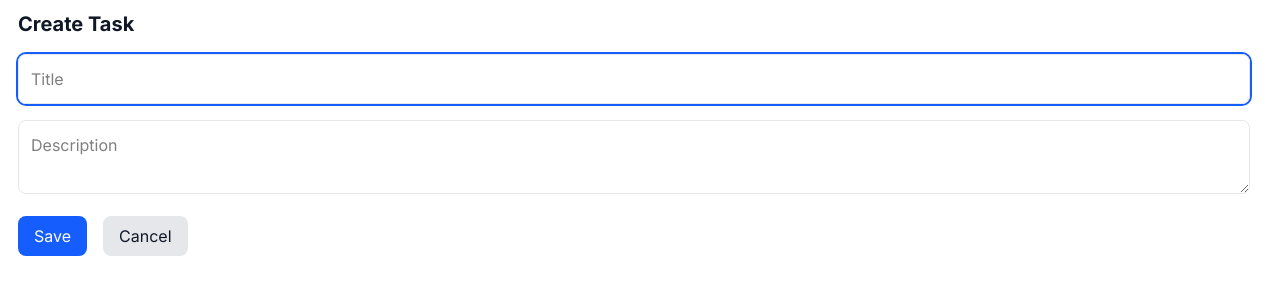
Test: Task form component › should show validation errors if fields are empty
Clear the text box with placeholder "Description": x=634, y=157 top-left (18, 120), bottom-right (1250, 194)
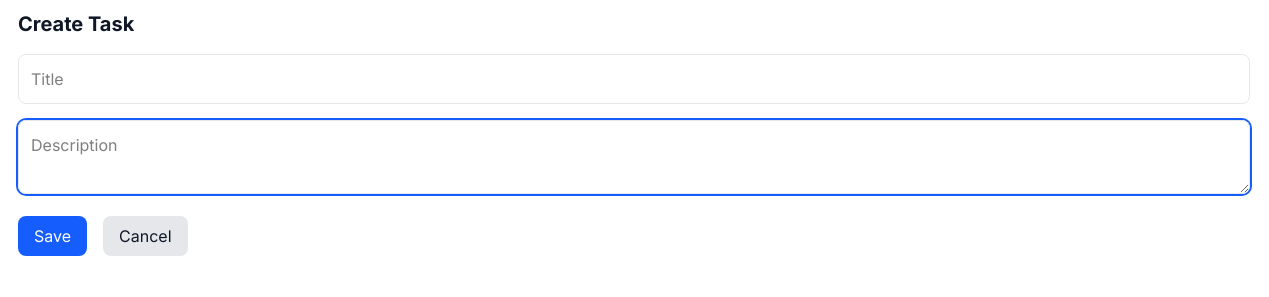
Click the button "Save": x=52, y=236 top-left (18, 216), bottom-right (87, 256)
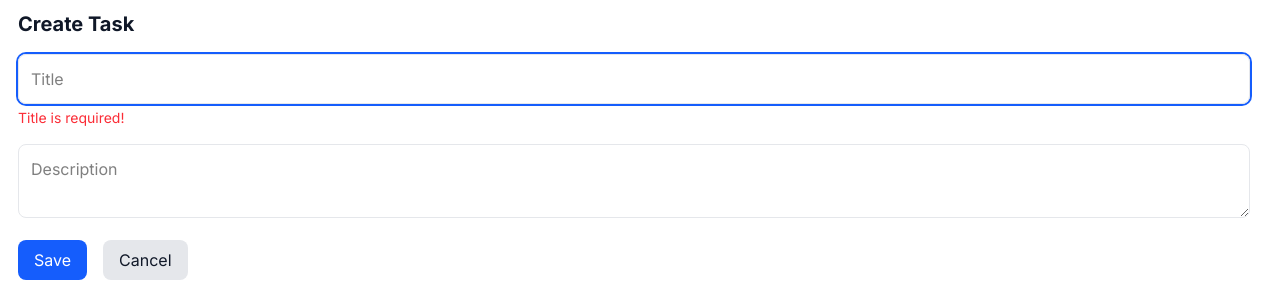
expect the text "Title is required!" is shown: met, box top-left (18, 109), bottom-right (124, 126)
